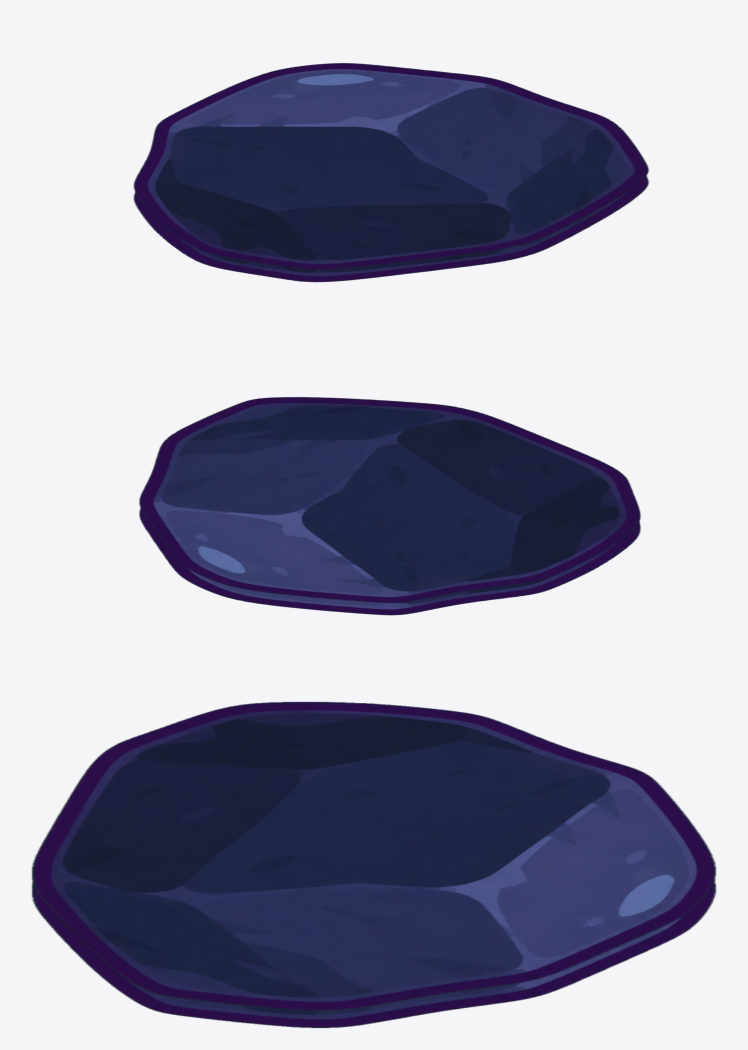
Rendered from coal.glb.
The picture shows the model from 3 angles, top to bottom: view 1: azimuth 30°, elevation 25°; view 2: azimuth 150°, elevation 25°; view 3: azimuth 270°, elevation 25°; orthographic projection. The views are drawn at different scales.
Visible parts, largest first — view 1: coal; view 2: coal; view 3: coal.
Part boxes in pixels (left/top/right/bottom): coal: left=133, top=63, right=648, bottom=282; coal: left=139, top=397, right=640, bottom=615; coal: left=31, top=702, right=716, bottom=1027.
Size of the model in its own units: 2 by 0.05 by 1.88.
Materials: 1 (1 with a texture image).
